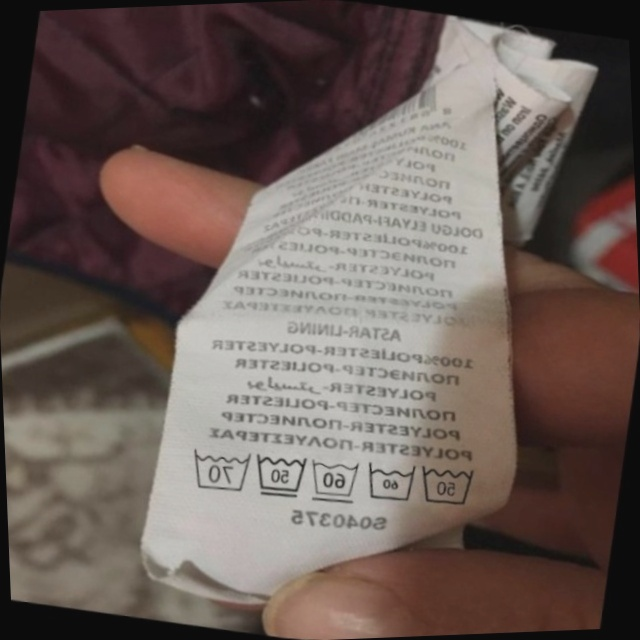50C: (411, 452, 484, 516), (245, 444, 313, 506)
60C: (301, 449, 365, 509), (357, 453, 422, 511)
70C: (180, 440, 255, 499)
